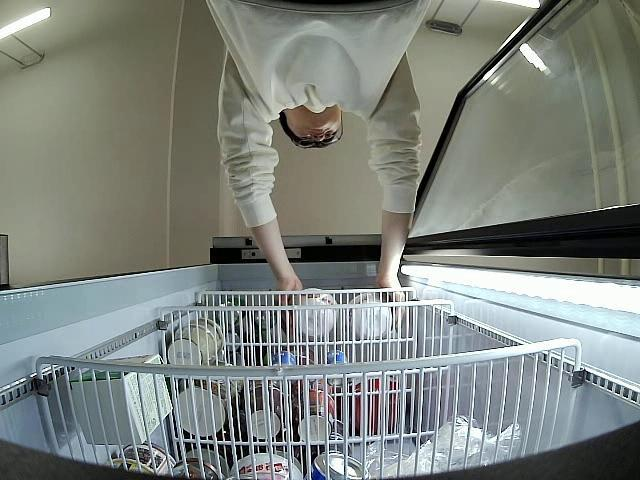09_yukGaeJang: (290, 287, 340, 338), (346, 294, 393, 340)
